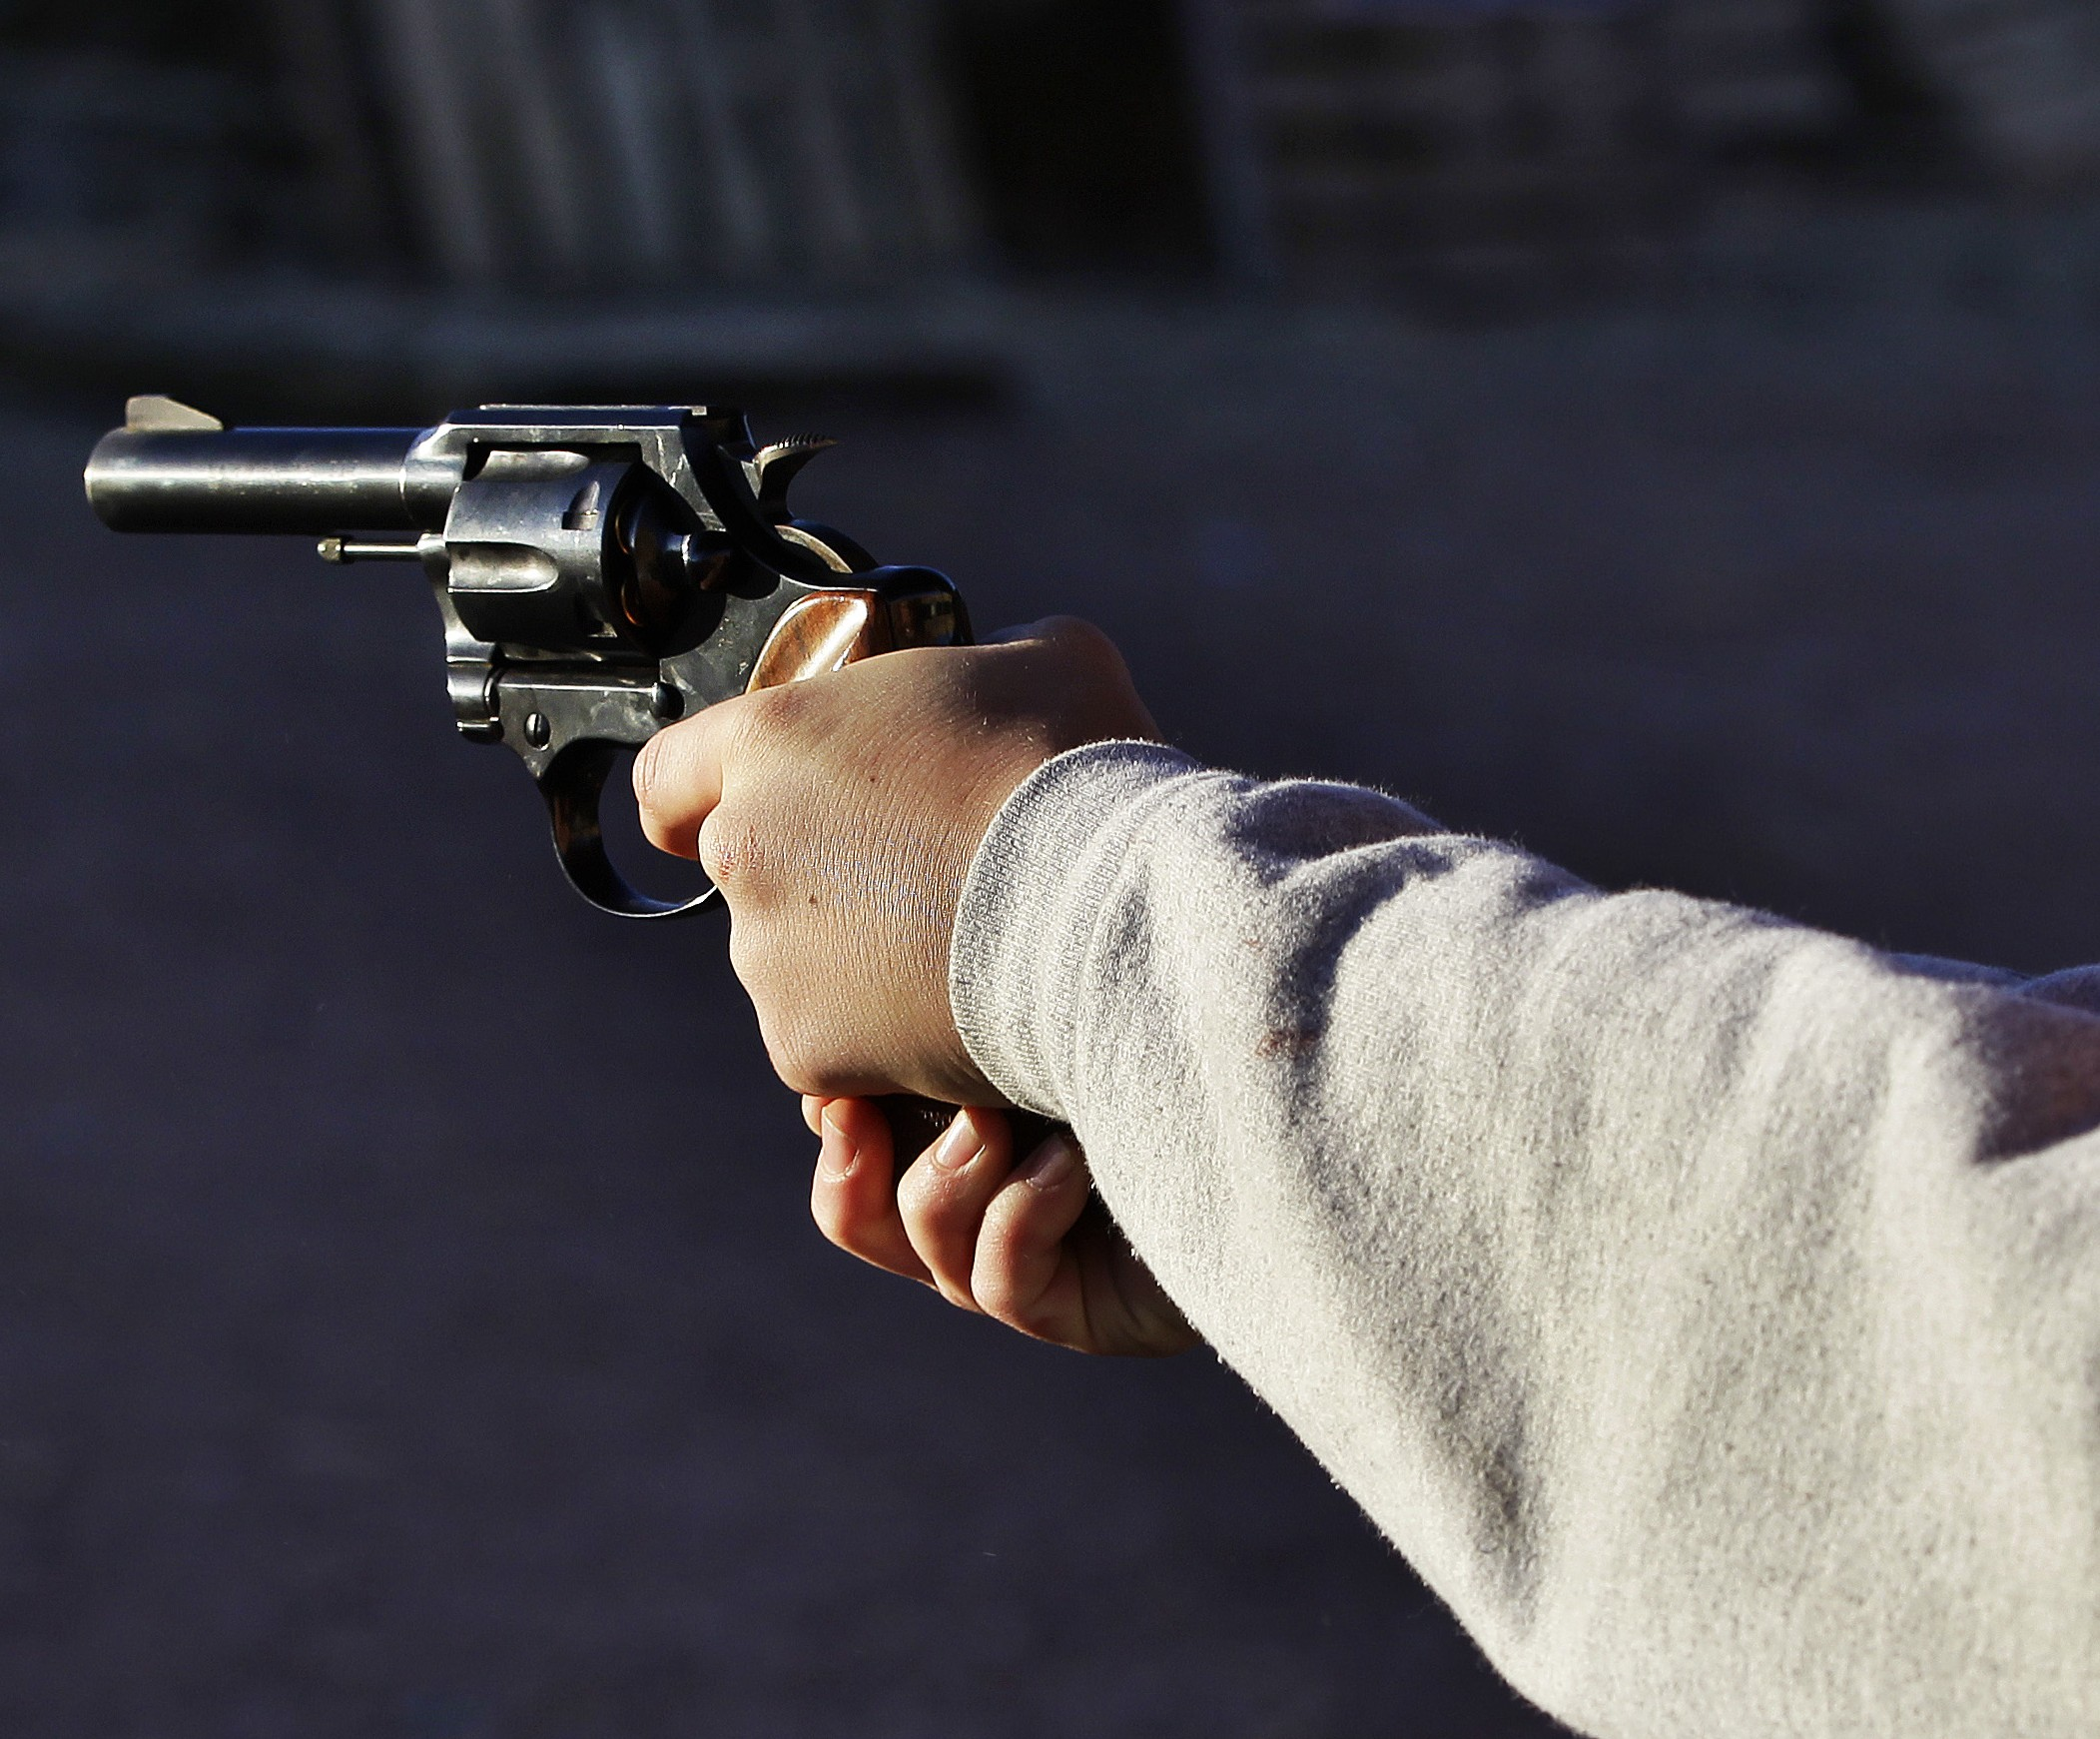Revolver: (38, 340, 1006, 1008)
